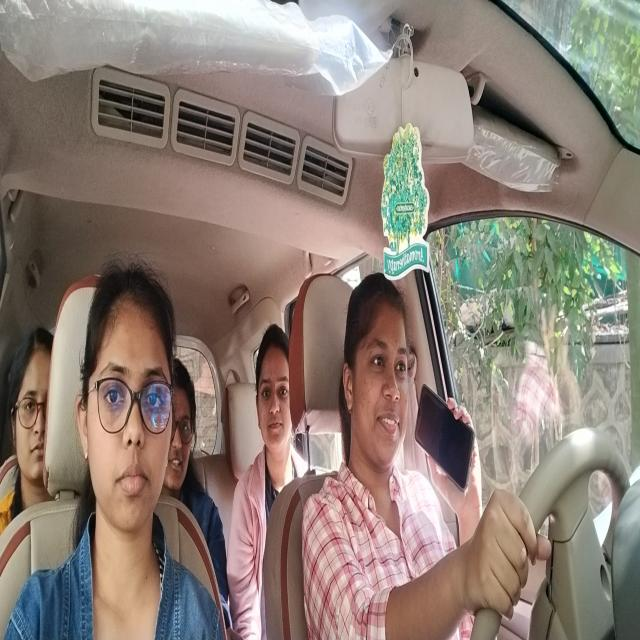mobile: (416, 386, 475, 494)
person: (93, 288, 165, 530), (15, 336, 56, 480), (255, 322, 294, 457), (169, 368, 200, 492)
